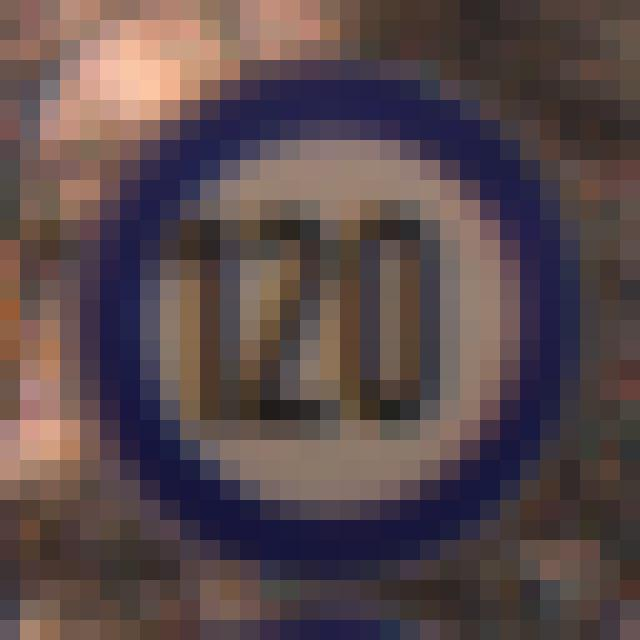SPEED LIMIT 120: (77, 69, 582, 567)
